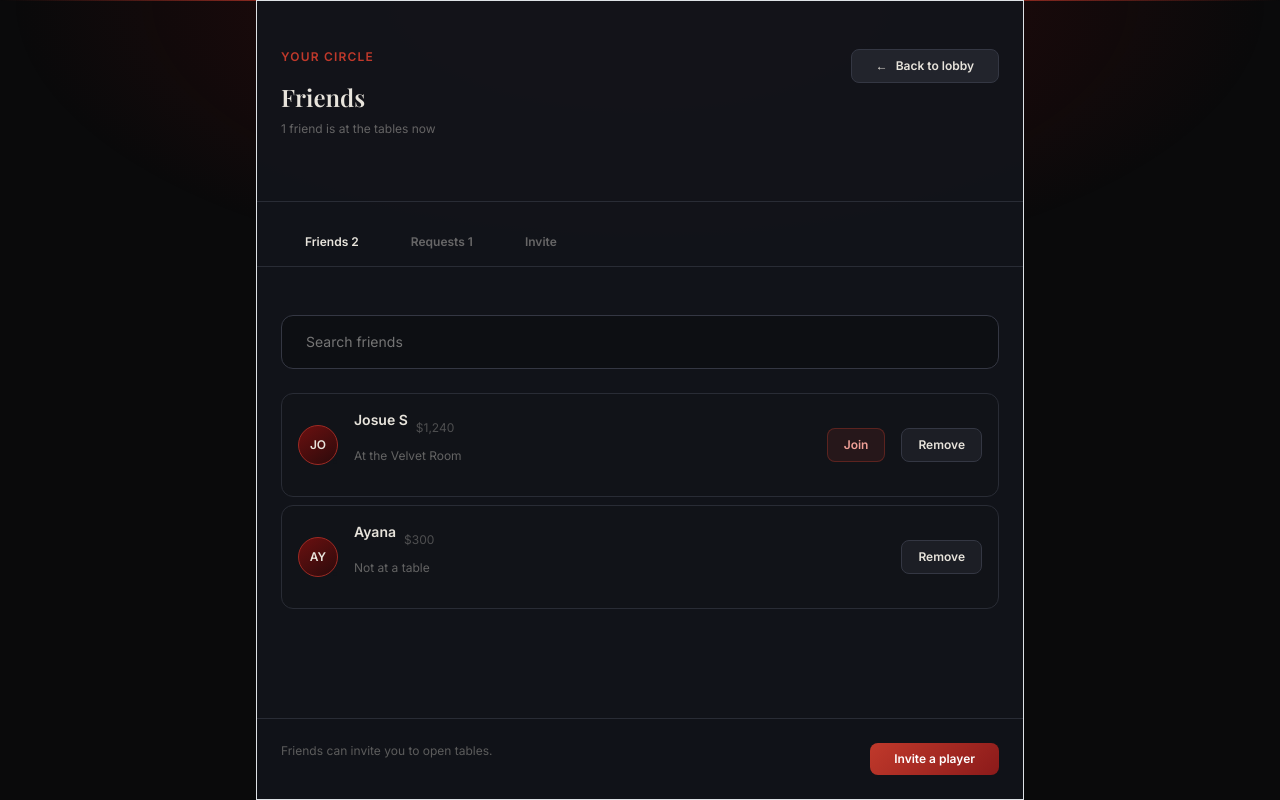
Test case: Removing a friend (P11) › clicking Remove asks first and does not remove yet
Click the button with aria-label "Remove Ayana" at x=942, y=557, box [901, 540, 982, 574]
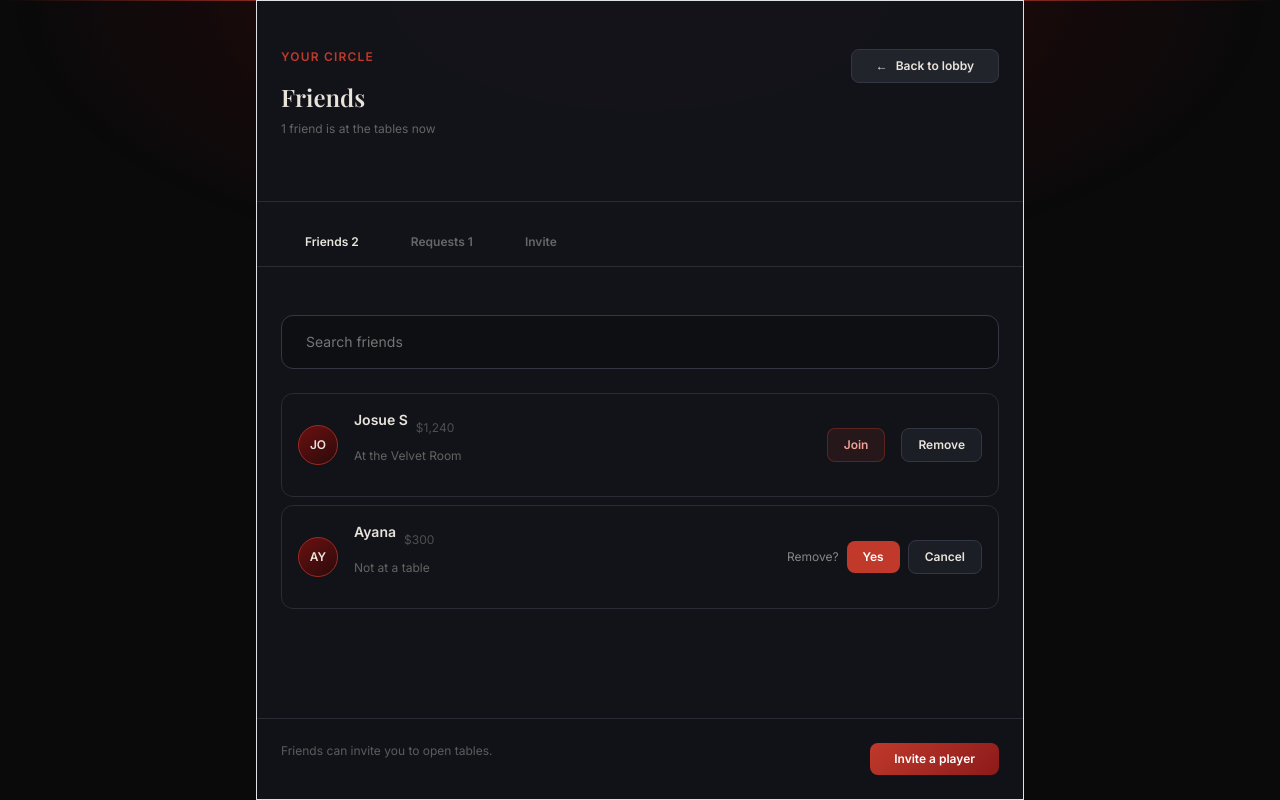
Check: the text "Remove?" is shown, box [787, 549, 839, 565]
